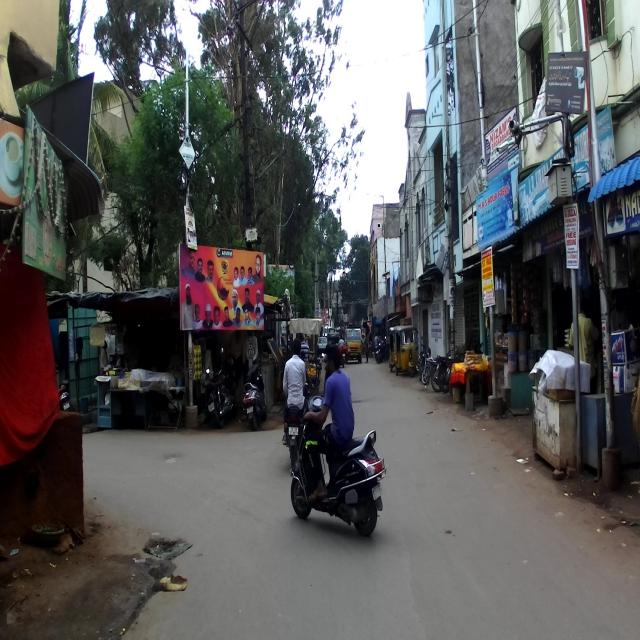motorcycle_RoyalEnfield: (203, 346, 236, 430)
motorcycle_TVS: (282, 379, 314, 470)
scooter: (289, 392, 386, 536), (242, 359, 268, 432)
